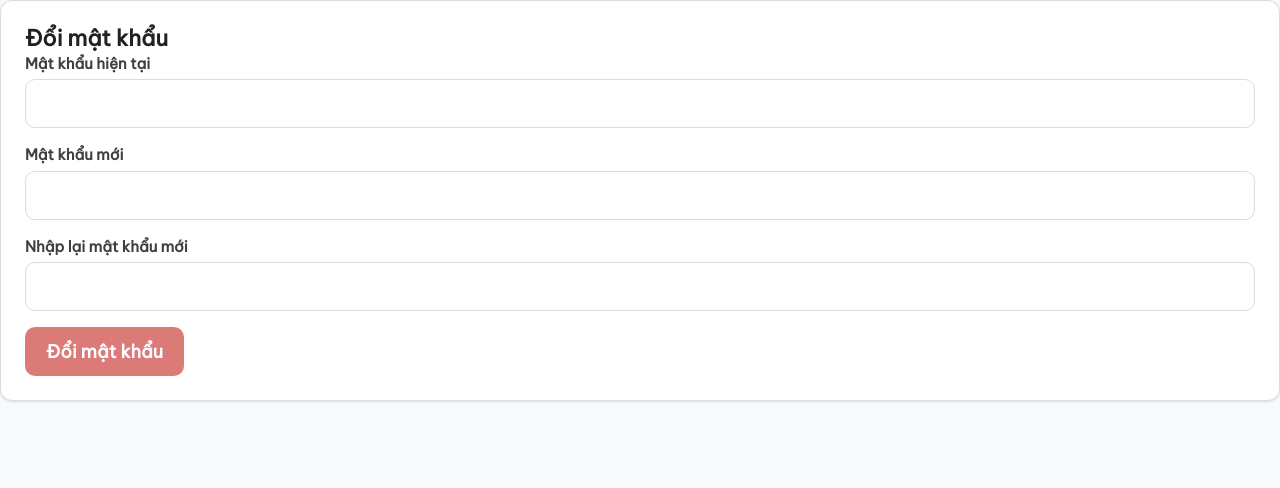
it: Lỗi từ server › 🔴 401 → 'Mật khẩu hiện tại không đúng' (phiên bị chiếm không đủ để đổi)
The width and height of the screenshot is (1280, 488).
Type "doan-bua" into the password field labelled "Mật khẩu hiện tại".
click(640, 104); type("doan-bua")  # box [25,79,1255,128]
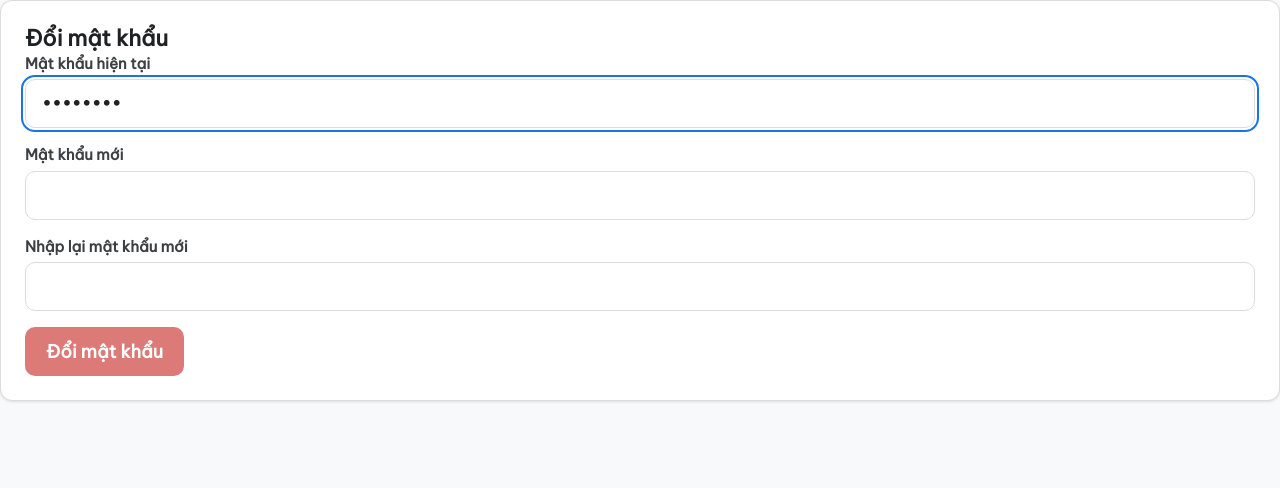
Type "matkhaurieng2026" into the password field labelled "Mật khẩu mới".
click(640, 195); type("matkhaurieng2026")  # box [25,170,1255,220]
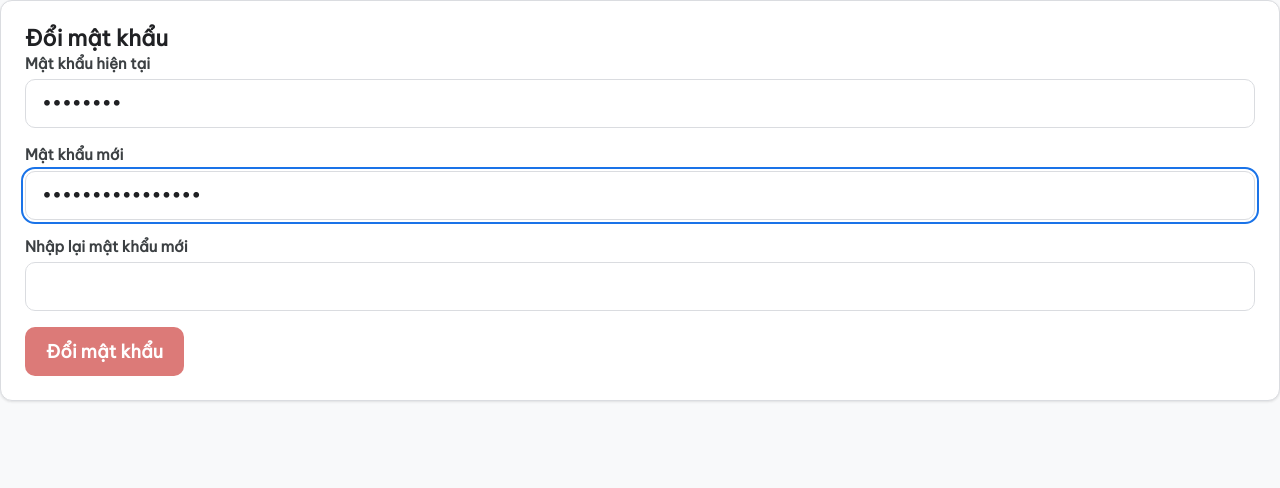
Type "matkhaurieng2026" into the password field labelled "Nhập lại mật khẩu mới".
click(640, 286); type("matkhaurieng2026")  # box [25,262,1255,311]
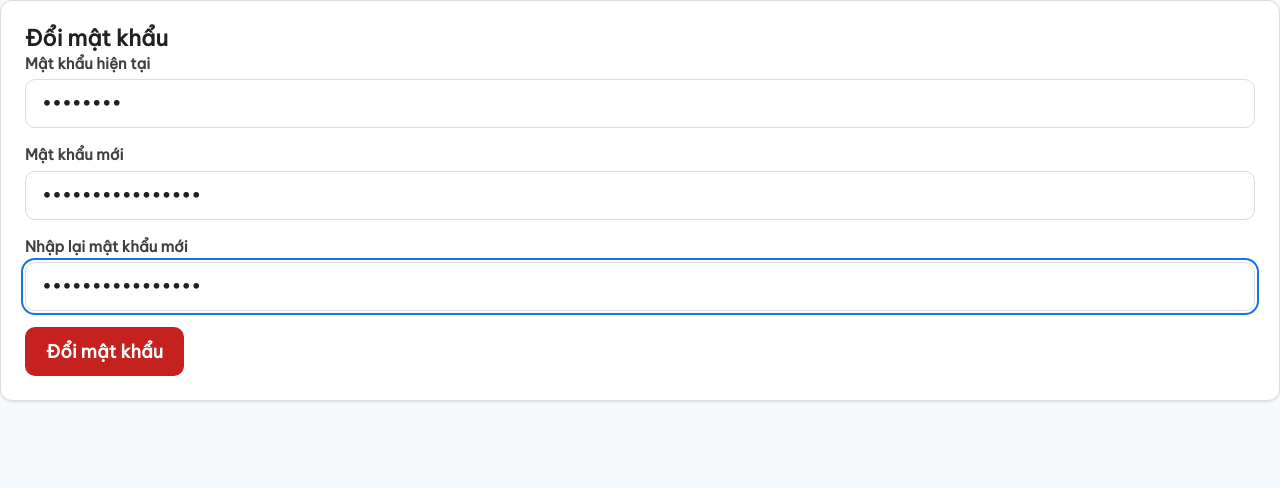
Click the button "Đổi mật khẩu".
click(104, 352)  # box [25,327,184,376]
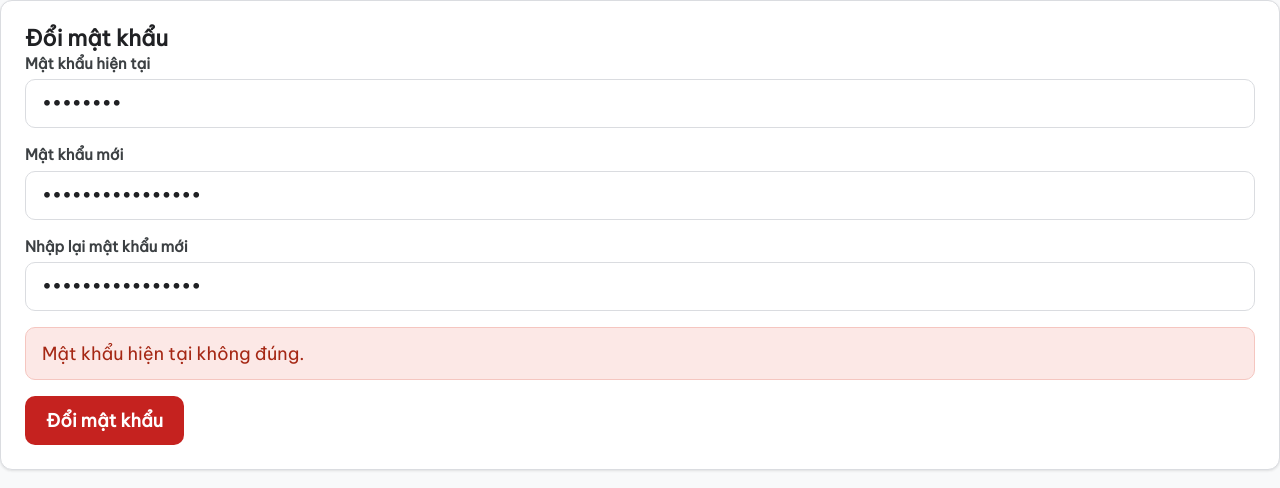
Expected: the text "Mật khẩu hiện tại không đúng." is shown, [25,327,1255,380]
